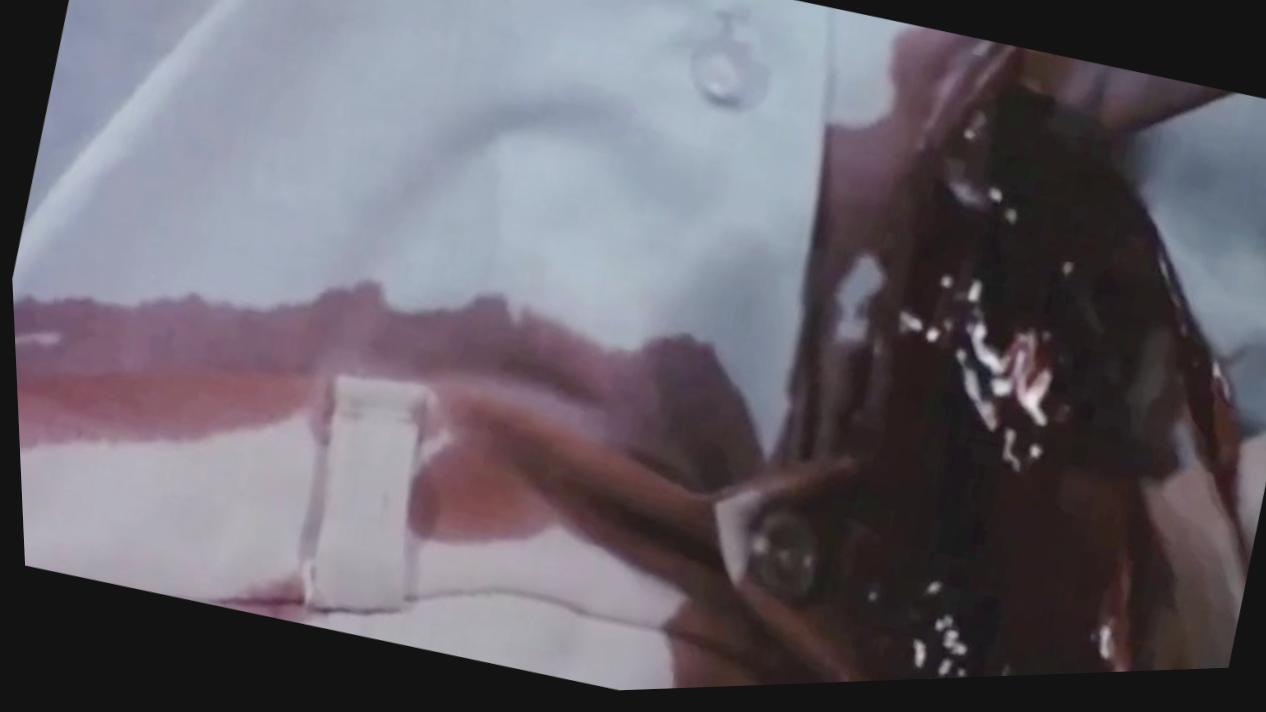Fire: (11, 32, 1248, 693), (215, 576, 302, 624)
